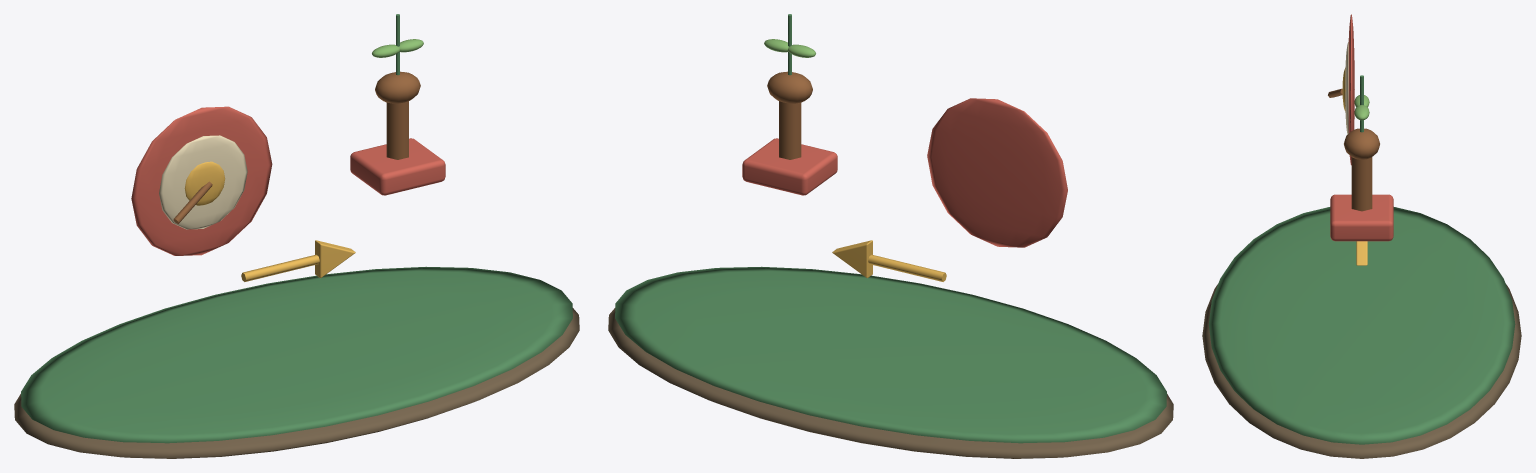
The model's file is complete-second-marked-result-so.glb.
3 renders of one model, left to right at view 1: azimuth 30°, elevation 25°; view 2: azimuth 150°, elevation 25°; view 3: azimuth 270°, elevation 25°, orthographic. The views are drawn at different scales.
Parts seen in each view (by area): view 1: complete-second-marked-result-so_surface_01, complete-second-marked-result-so_surface_02, complete-second-marked-result-so_surface_00, complete-second-marked-result-so_surface_03, complete-second-marked-result-so_surface_04, complete-second-marked-result-so_surface_05; view 2: complete-second-marked-result-so_surface_01, complete-second-marked-result-so_surface_02, complete-second-marked-result-so_surface_00, complete-second-marked-result-so_surface_05, complete-second-marked-result-so_surface_04; view 3: complete-second-marked-result-so_surface_01, complete-second-marked-result-so_surface_00, complete-second-marked-result-so_surface_02, complete-second-marked-result-so_surface_05, complete-second-marked-result-so_surface_04.
Part boxes in pixels (x1,y1,x2,y2): complete-second-marked-result-so_surface_01: [21, 14, 572, 443]; complete-second-marked-result-so_surface_02: [131, 106, 445, 255]; complete-second-marked-result-so_surface_00: [14, 308, 579, 458]; complete-second-marked-result-so_surface_03: [159, 135, 247, 229]; complete-second-marked-result-so_surface_04: [184, 161, 355, 281]; complete-second-marked-result-so_surface_05: [173, 71, 420, 223]; complete-second-marked-result-so_surface_01: [615, 14, 1166, 443]; complete-second-marked-result-so_surface_02: [742, 98, 1067, 247]; complete-second-marked-result-so_surface_00: [608, 308, 1173, 458]; complete-second-marked-result-so_surface_05: [767, 71, 812, 159]; complete-second-marked-result-so_surface_04: [832, 240, 946, 281]; complete-second-marked-result-so_surface_01: [1208, 75, 1515, 444]; complete-second-marked-result-so_surface_00: [1202, 283, 1521, 458]; complete-second-marked-result-so_surface_02: [1330, 14, 1393, 241]; complete-second-marked-result-so_surface_05: [1328, 88, 1379, 211]; complete-second-marked-result-so_surface_04: [1342, 68, 1367, 265].
Bounding box in the file's own units: 4.56 × 2.77 × 2.5.
